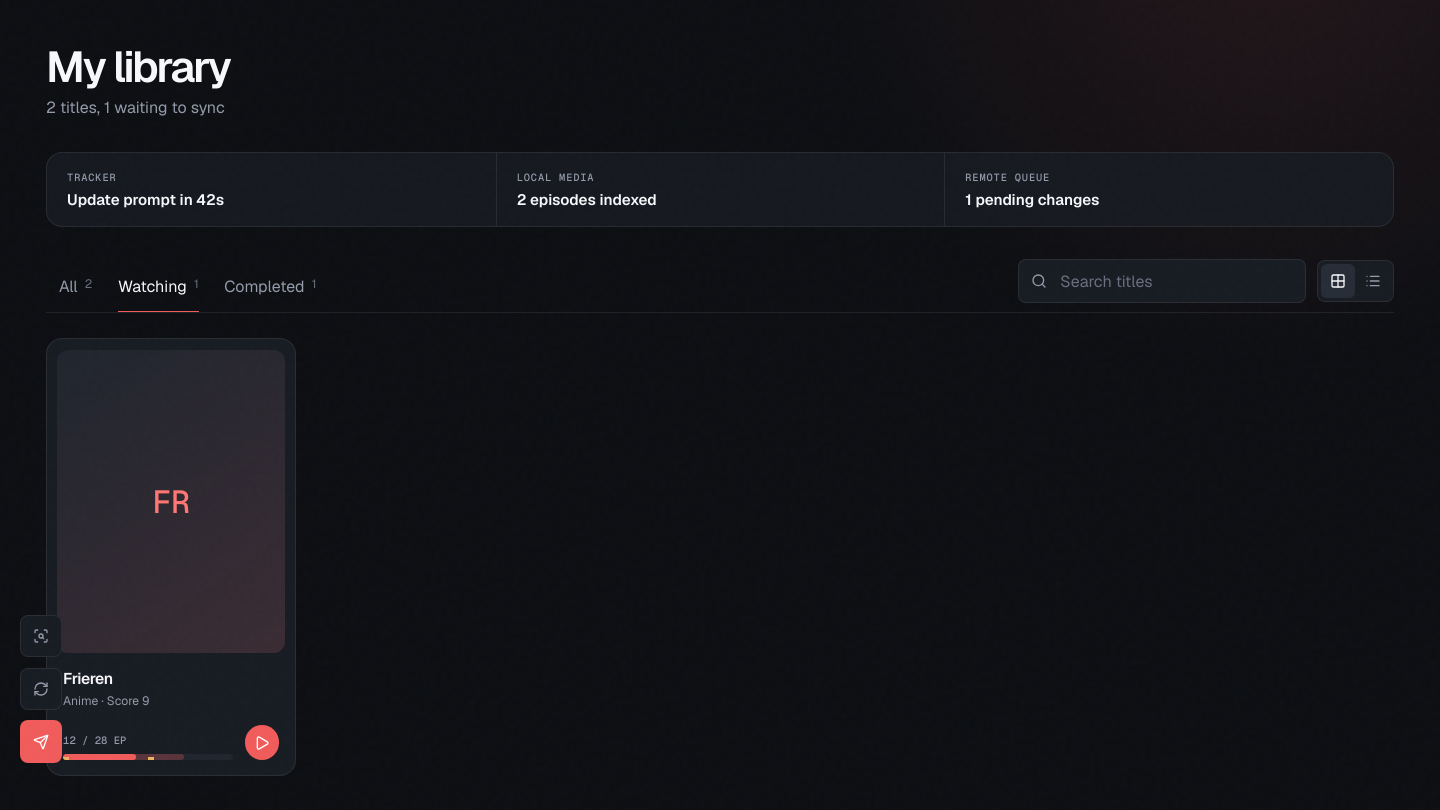
Scenario: LibraryPage › filters by service-derived status and title search
This screenshot has width=1440, height=810.
Expected: the text "Update prompt in 42s" is shown, [67, 190, 224, 209]
Expected: the heading "Frieren" is shown, [63, 668, 113, 689]
Click the tab "Completed 1": x=270, y=288 [212, 264, 329, 312]
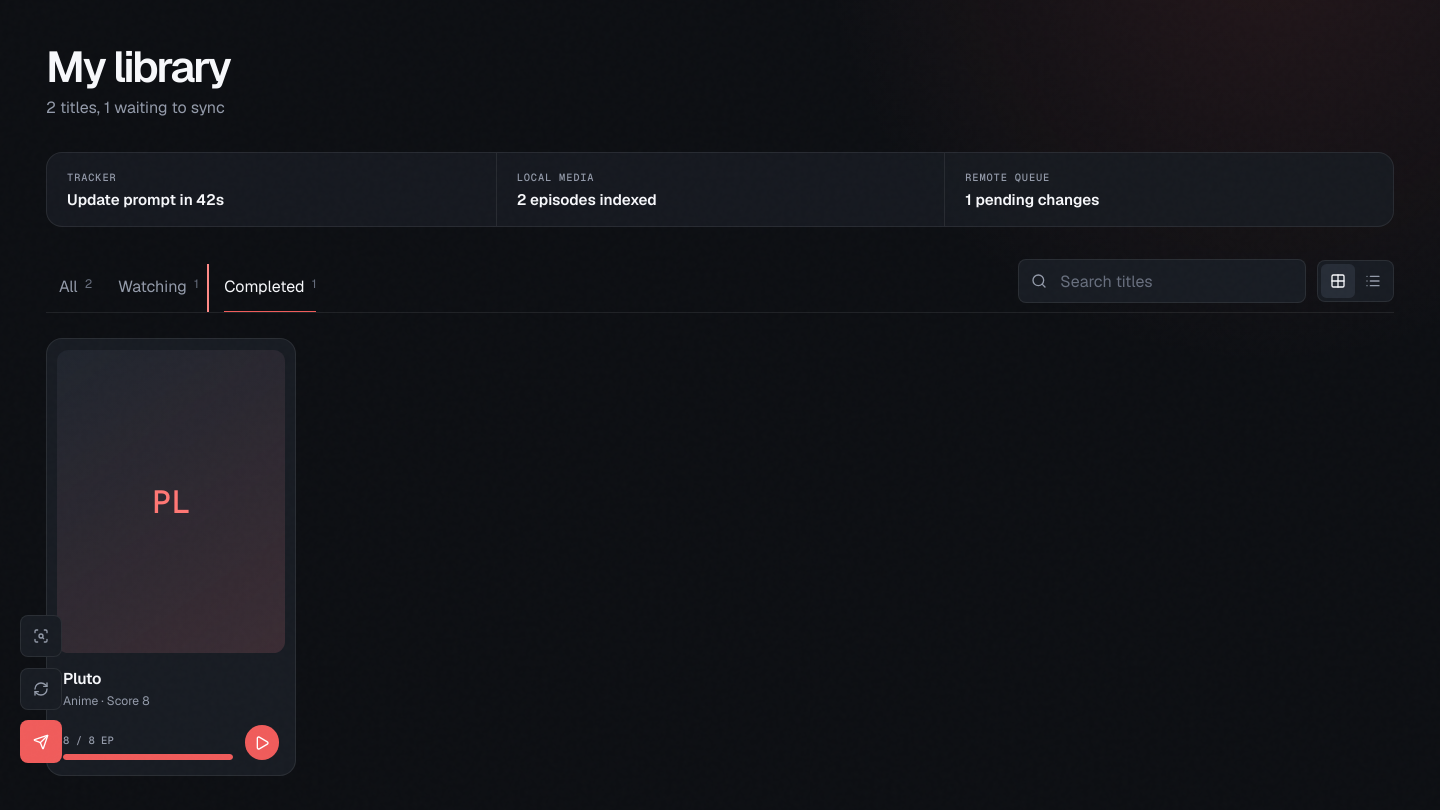
Now the heading "Frieren" is gone
Now the heading "Pluto" is shown, box [63, 668, 101, 689]
Click the tab "All 2": x=76, y=288 [46, 264, 105, 312]
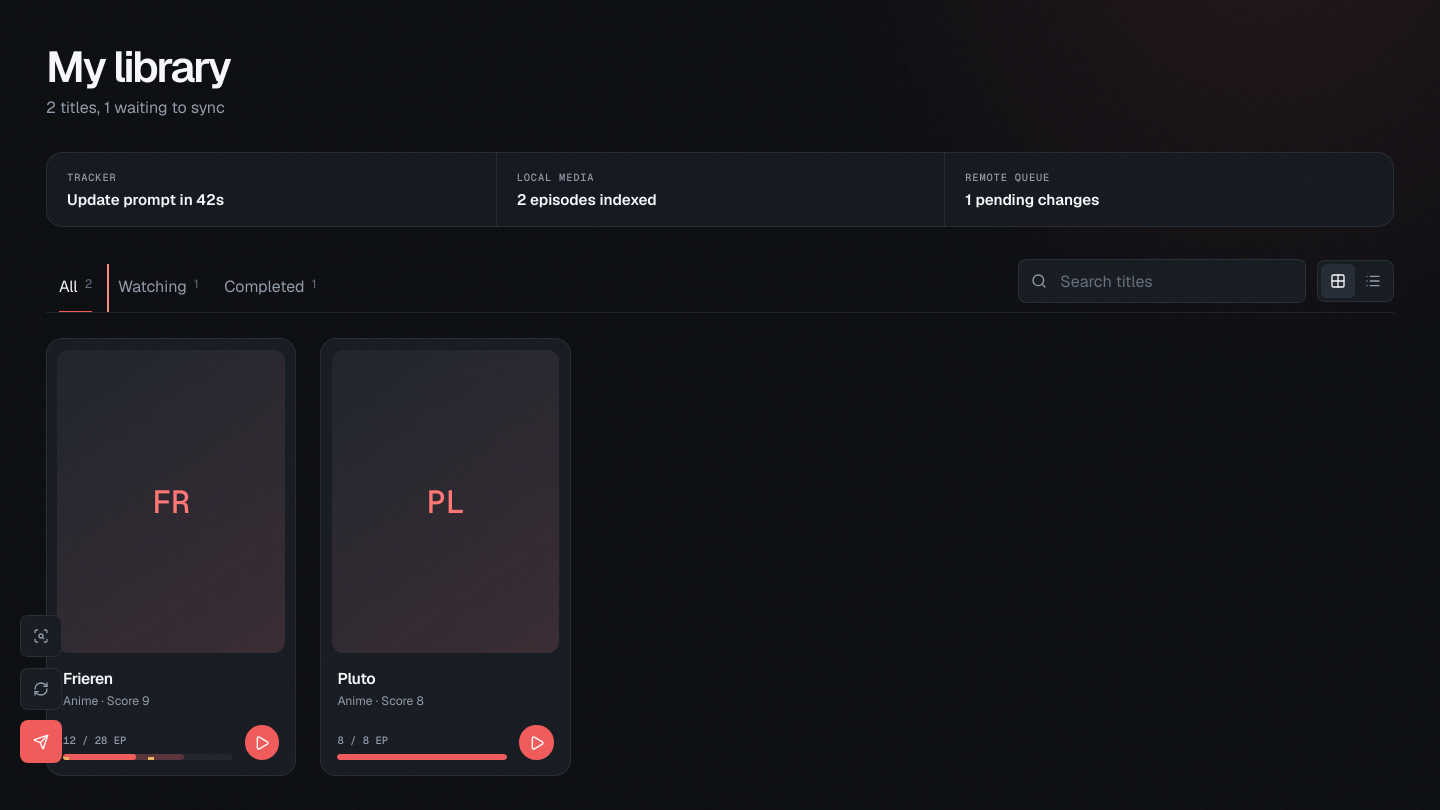
In the search field named "Search library": x=1170, y=281 [1047, 260, 1293, 302], type "fri"
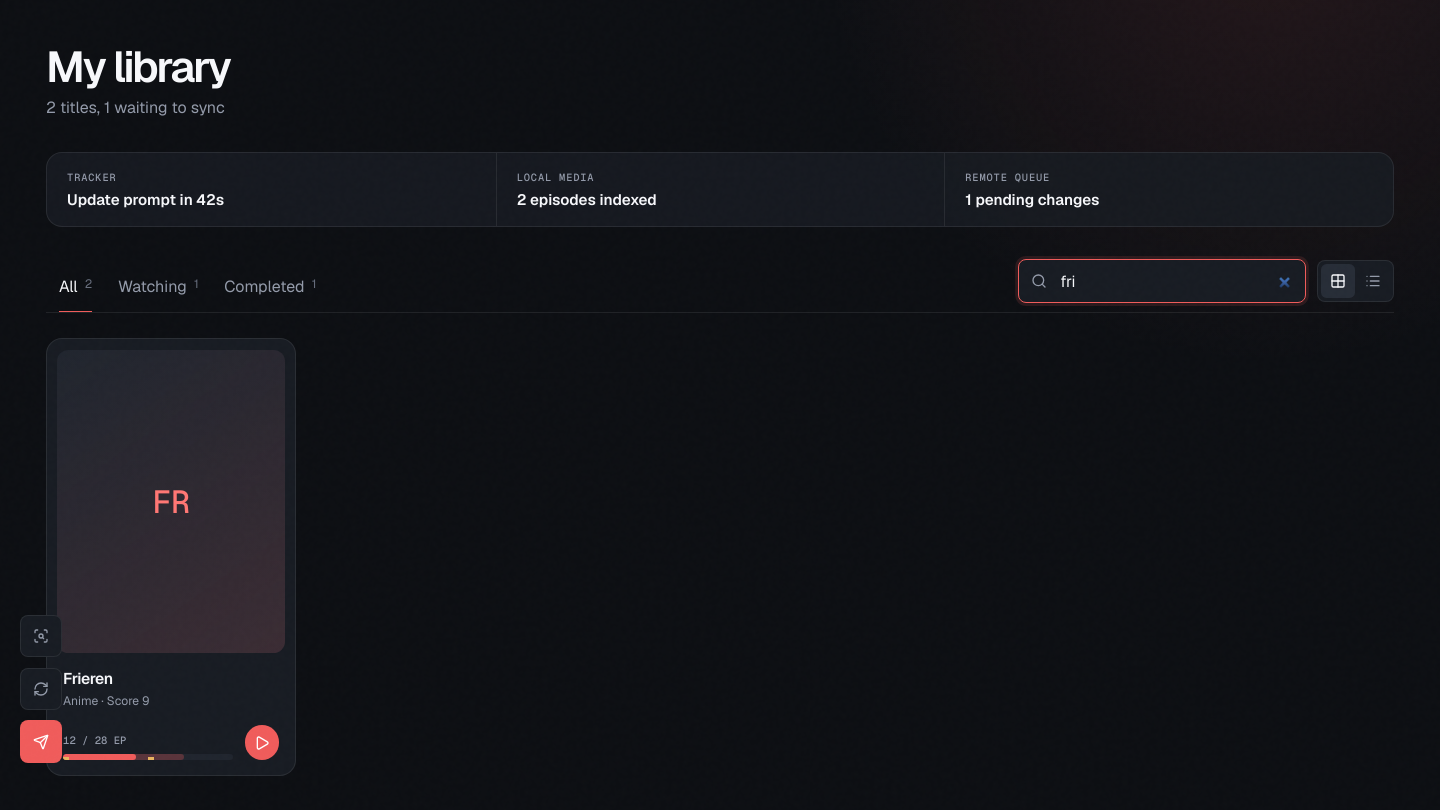
Now the heading "Frieren" is shown, box [63, 668, 113, 689]
Now the heading "Pluto" is gone
